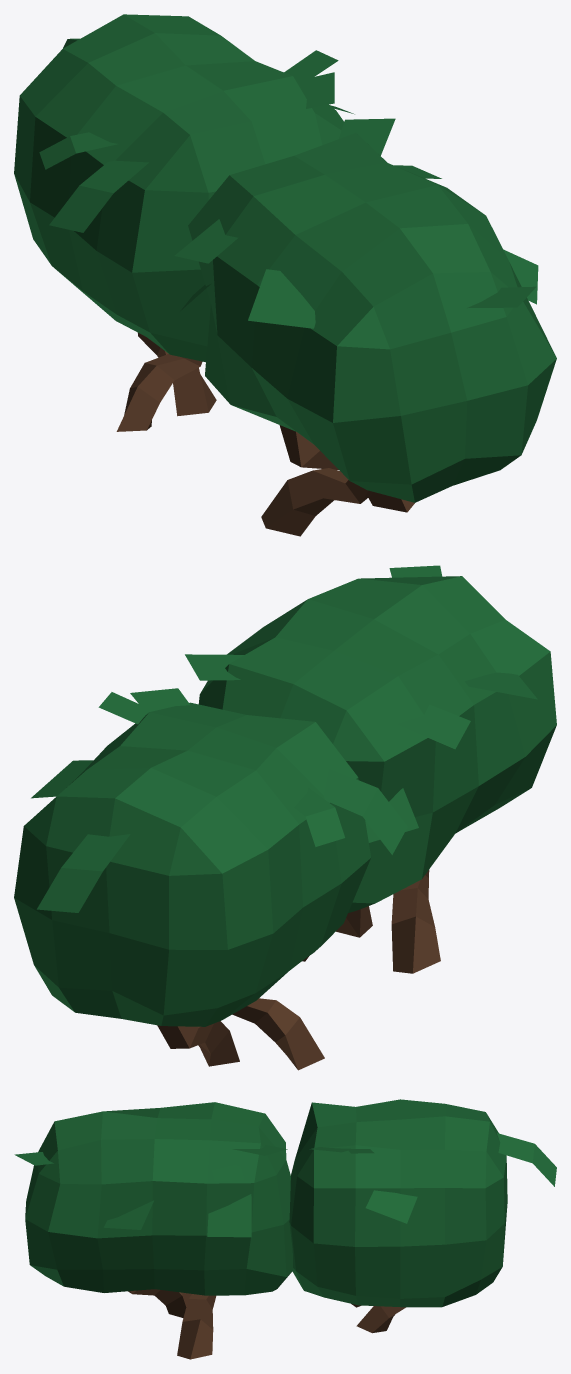
The model's file is Bush_01.fbx.
3 renders of one model, top to bottom at view 1: azimuth 30°, elevation 25°; view 2: azimuth 150°, elevation 25°; view 3: azimuth 270°, elevation 25°, orthographic. The views are drawn at different scales.
Parts seen in each view (by area): view 1: Bush_01; view 2: Bush_01; view 3: Bush_01.
Part boxes in pixels (x1,y1,x2,y2): Bush_01: [14, 14, 556, 536]; Bush_01: [14, 565, 556, 1070]; Bush_01: [14, 1099, 556, 1359].
Bounding box in the file's own units: 2.38 × 2.37 × 5.18.
